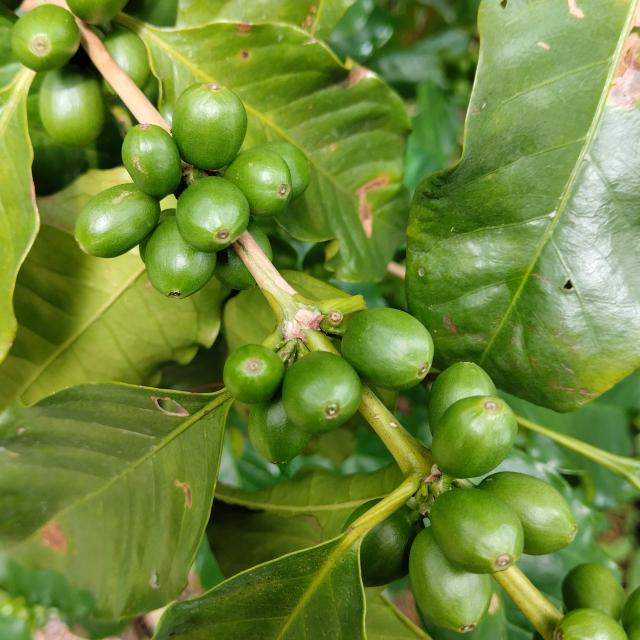green: (410, 528, 493, 634), (478, 472, 579, 556), (430, 489, 525, 575), (341, 308, 434, 391), (432, 396, 518, 479), (171, 81, 247, 169), (282, 351, 362, 434), (74, 182, 160, 258), (143, 216, 216, 298), (175, 176, 250, 252), (360, 505, 424, 588), (429, 362, 498, 434), (224, 148, 292, 216), (121, 124, 181, 199), (223, 344, 285, 404), (256, 141, 311, 201), (555, 609, 629, 640), (214, 246, 256, 290), (343, 499, 382, 532), (247, 218, 272, 261), (138, 232, 152, 262), (157, 208, 175, 224)
